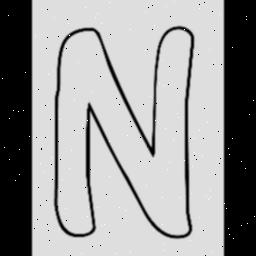n: (48, 15, 204, 245)
